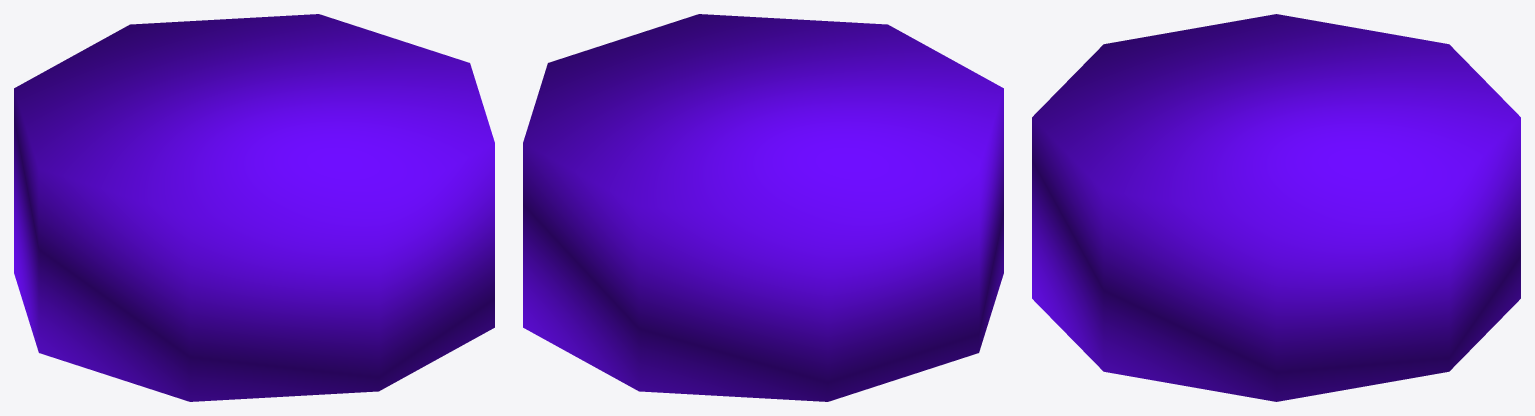
Rendered from retail_shop_workers_can_small_1_meshCollider.fbx.
The picture shows the model from 3 angles, left to right: view 1: azimuth 30°, elevation 25°; view 2: azimuth 150°, elevation 25°; view 3: azimuth 270°, elevation 25°; orthographic projection.
Parts seen in each view (by area): view 1: retail_shop_workers_can_small_1_meshCollider; view 2: retail_shop_workers_can_small_1_meshCollider; view 3: retail_shop_workers_can_small_1_meshCollider.
Boxes of the visible parts, <box> form: retail_shop_workers_can_small_1_meshCollider: <box>14,14,494,401</box>; retail_shop_workers_can_small_1_meshCollider: <box>523,14,1003,401</box>; retail_shop_workers_can_small_1_meshCollider: <box>1032,14,1520,401</box>.
Size of the model in its own units: 8.67 by 3.55 by 8.67.
